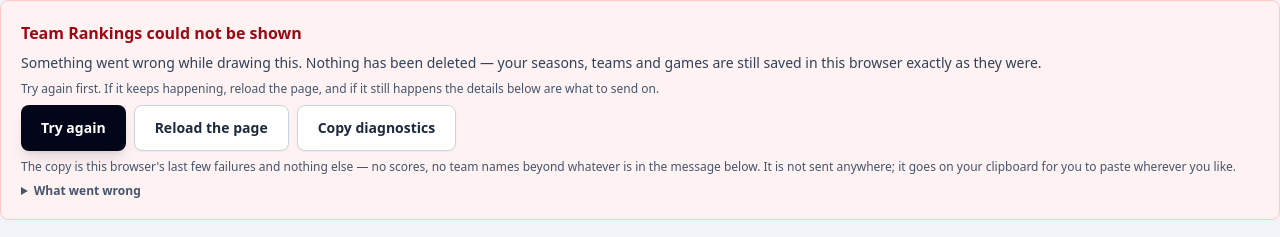
Test: a crash the boundary caught › offers the copy on the screen that is showing the failure
Click the button "Copy diagnostics".
click(376, 128)  # box top-left (297, 105), bottom-right (456, 151)
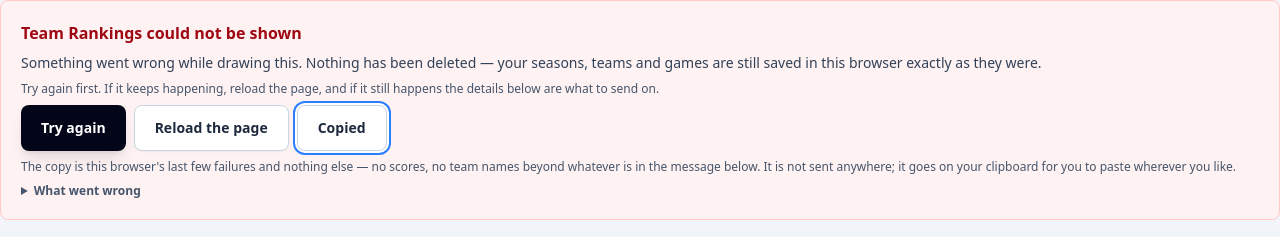
Check: the button "Copied" is shown, box top-left (297, 105), bottom-right (387, 151)
